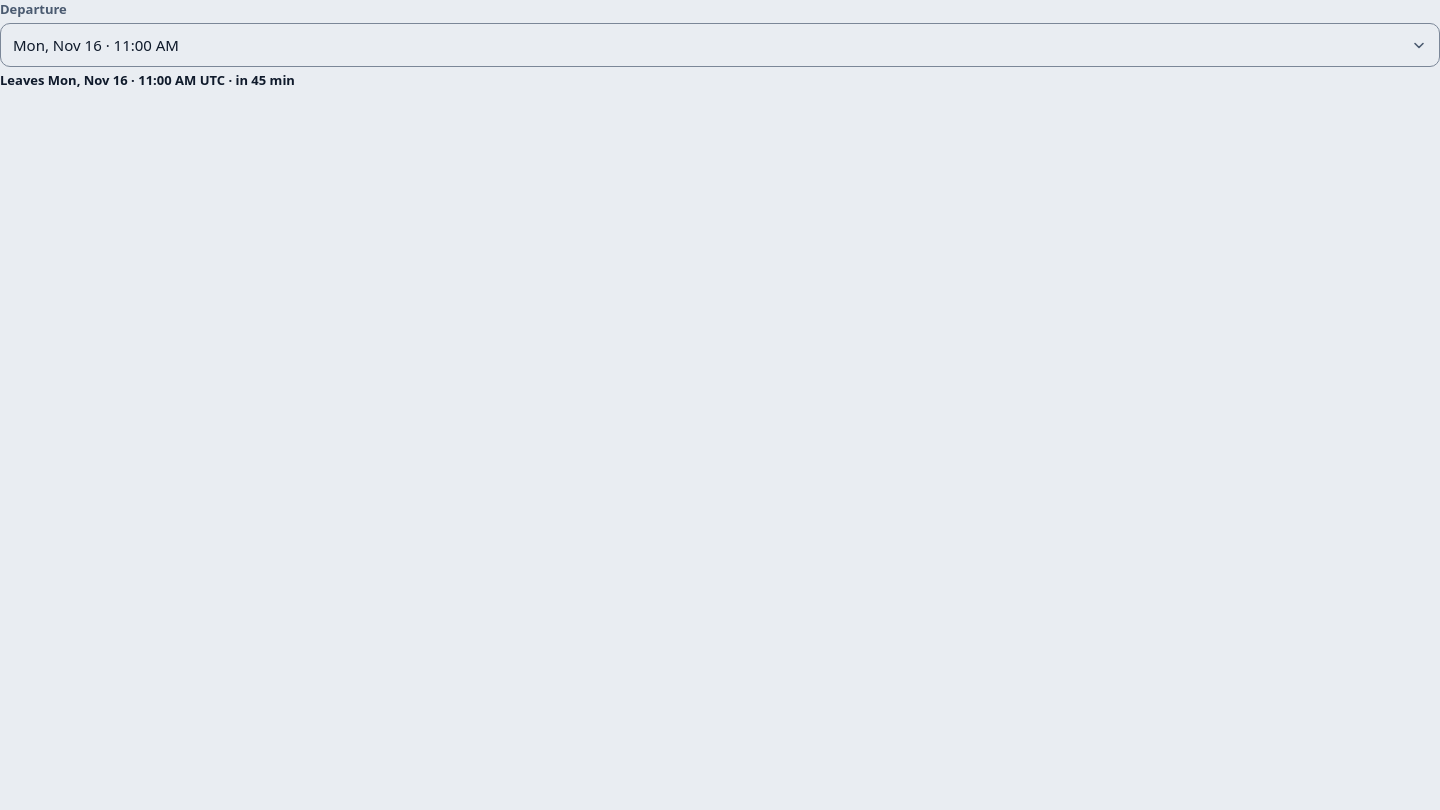
Scenario: DeparturePicker › opens from the current value and offers quick picks, 15 days, and hours
Check: the text with test id "departure-summary" shows "in 45 min", box [0,71,295,89]
What coordinates should you click on to do the following:
click the button with test id "departure-trigger"
I would click on:
 (96, 45)
Its box is [0,23,1439,67].
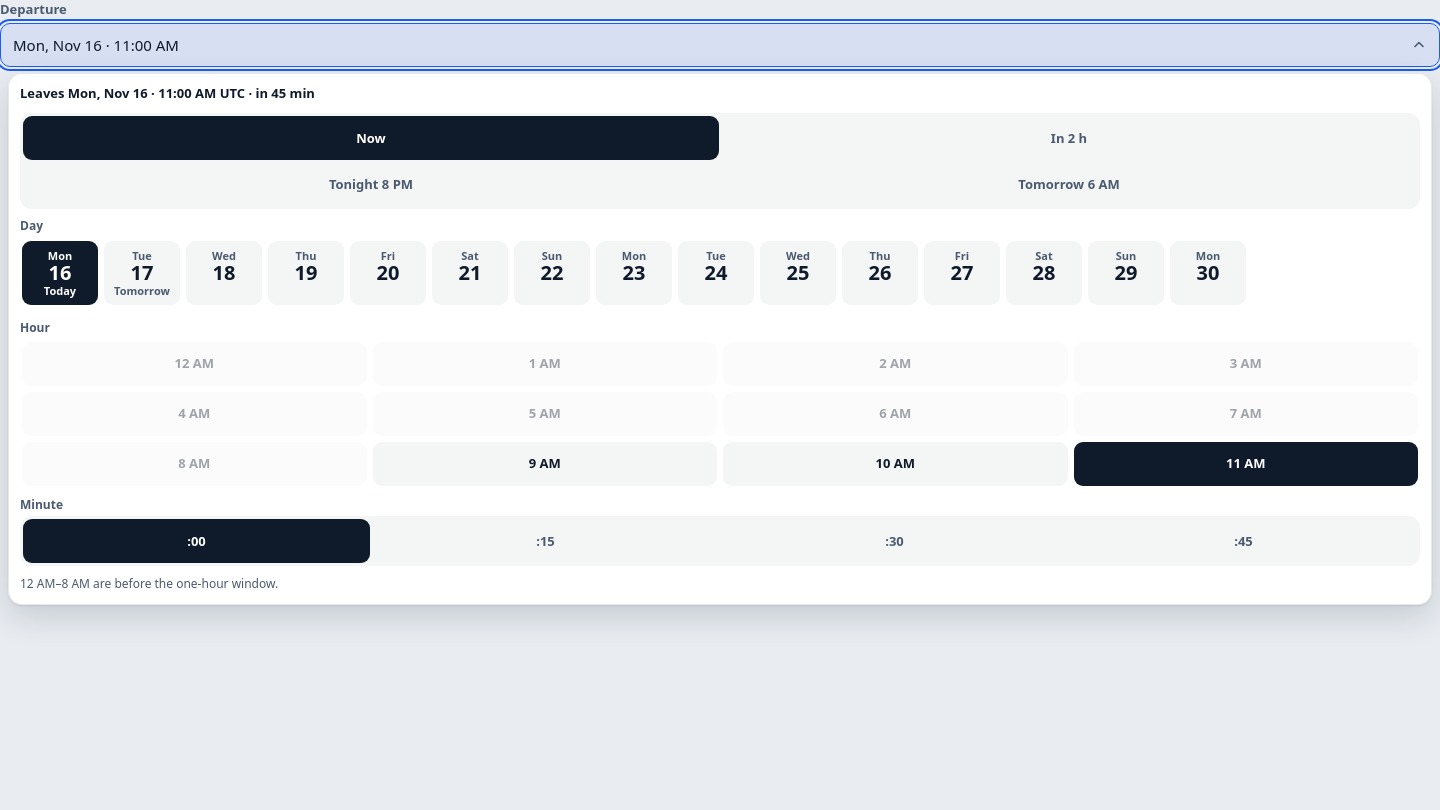
Check: the button with test id "departure-trigger" is expanded, box [0,23,1439,67]
Check: the element named "Choose a departure" is shown
Check: the radio button labelled "In 2 h" is shown, box [721,116,1417,160]
